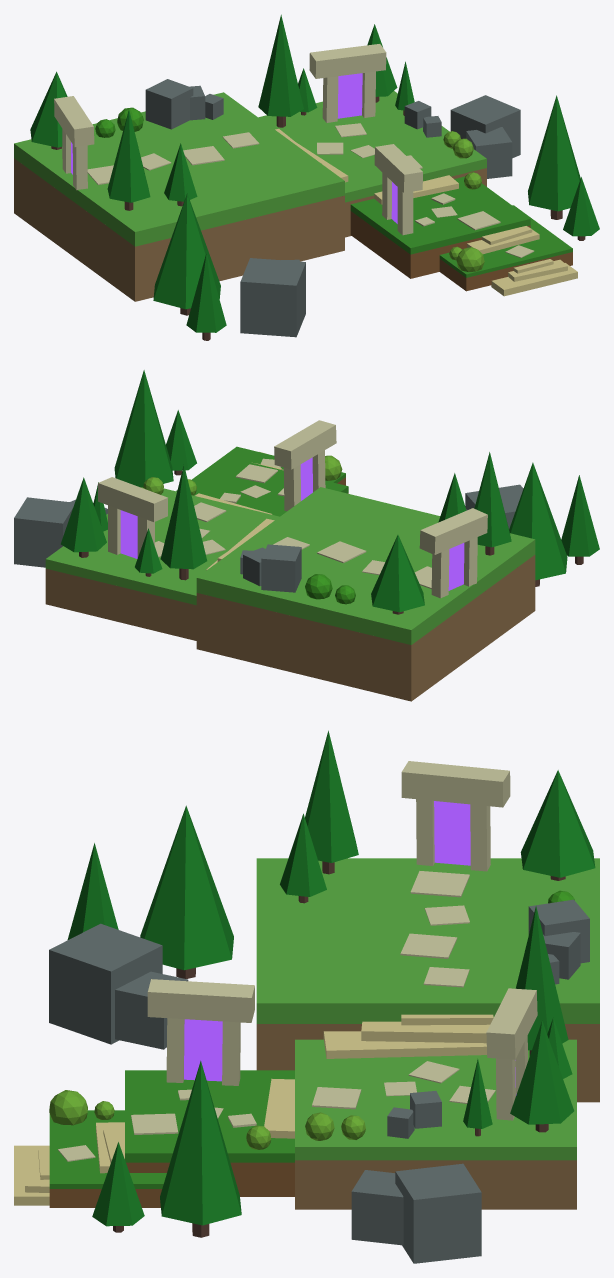
Rendered from enviroment.glb.
3 renders of one model, top to bottom at view 1: azimuth 30°, elevation 25°; view 2: azimuth 150°, elevation 25°; view 3: azimuth 270°, elevation 25°, orthographic. The views are drawn at different scales.
Parts seen in each view (by area): view 1: terrain, terrain.001, terrain.002, rock, tree.009, tree.007, terrain.003, tree.004, rock.007, tree.001, gates.005, rock.002 (+25 smaller); view 2: terrain, terrain.001, tree.007, tree.009, rock.007, terrain.002, tree.004, tree.003, gates.005, gates.008, tree.006, tree.001 (+20 smaller); view 3: terrain, terrain.001, terrain.002, rock, tree.009, tree.007, rock.007, terrain.003, tree.003, gates.002, gates.008, tree.001 (+32 smaller).
Boxes of the visible parts, box(x1,y1,x2,y2) form: terrain: box(14, 92, 344, 301); terrain.001: box(258, 91, 486, 237); terrain.002: box(350, 176, 530, 278); rock: box(240, 258, 305, 337); tree.009: box(153, 193, 220, 315); tree.007: box(528, 95, 580, 219); terrain.003: box(439, 205, 572, 291); tree.004: box(258, 14, 303, 127); rock.007: box(450, 95, 520, 158); tree.001: box(107, 110, 150, 210); gates.005: box(309, 44, 386, 78); rock.002: box(145, 79, 193, 129); terrain: box(196, 487, 535, 701); terrain.001: box(45, 488, 279, 640); tree.007: box(114, 370, 173, 487); tree.009: box(509, 462, 567, 586); rock.007: box(14, 497, 74, 567); terrain.002: box(192, 456, 348, 516); tree.004: box(160, 465, 207, 580); tree.003: box(371, 535, 424, 614); gates.005: box(98, 477, 167, 521); gates.008: box(419, 508, 487, 554); tree.006: box(61, 477, 106, 557); tree.001: box(474, 452, 511, 555); terrain: box(256, 858, 599, 1102); terrain.001: box(295, 1039, 576, 1209); terrain.002: box(125, 1070, 294, 1196); rock: box(49, 923, 162, 1044); tree.009: box(140, 805, 233, 978); tree.007: box(160, 1060, 241, 1237); rock.007: box(395, 1163, 481, 1263); terrain.003: box(49, 1110, 166, 1207); tree.003: box(520, 770, 595, 880); gates.002: box(147, 979, 254, 1022); gates.008: box(401, 761, 510, 807); tree.001: box(305, 730, 358, 874).
Size of what is drawn, in the model's own units: 21.92 by 8.08 by 17.51.
